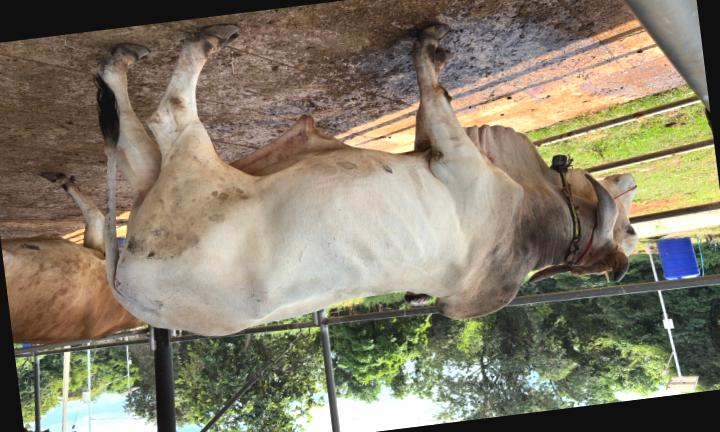Brahman: (96, 25, 636, 336)
